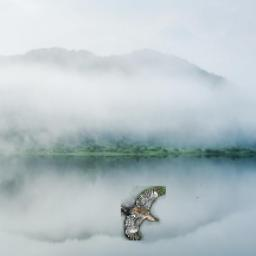Woodpecker: (121, 187, 166, 242)
